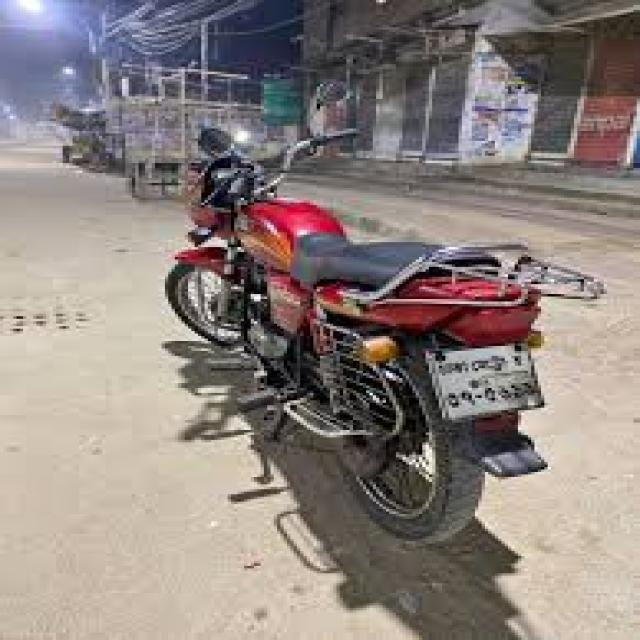bike: (161, 132, 548, 550)
